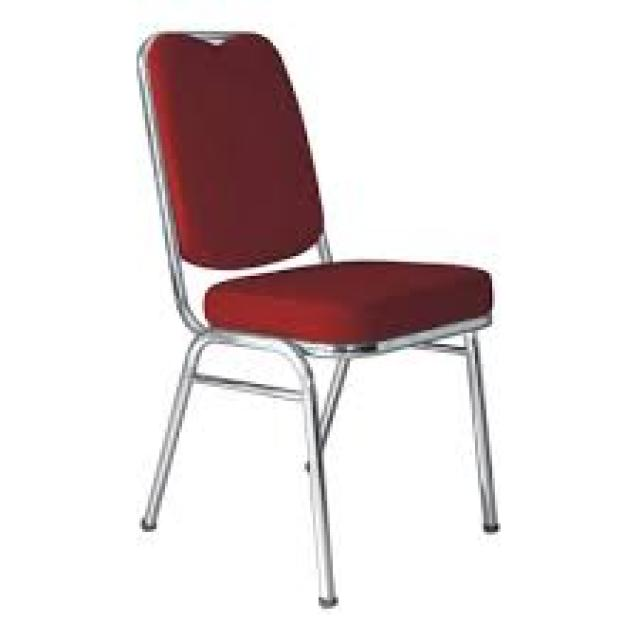chair: (132, 27, 494, 614)
